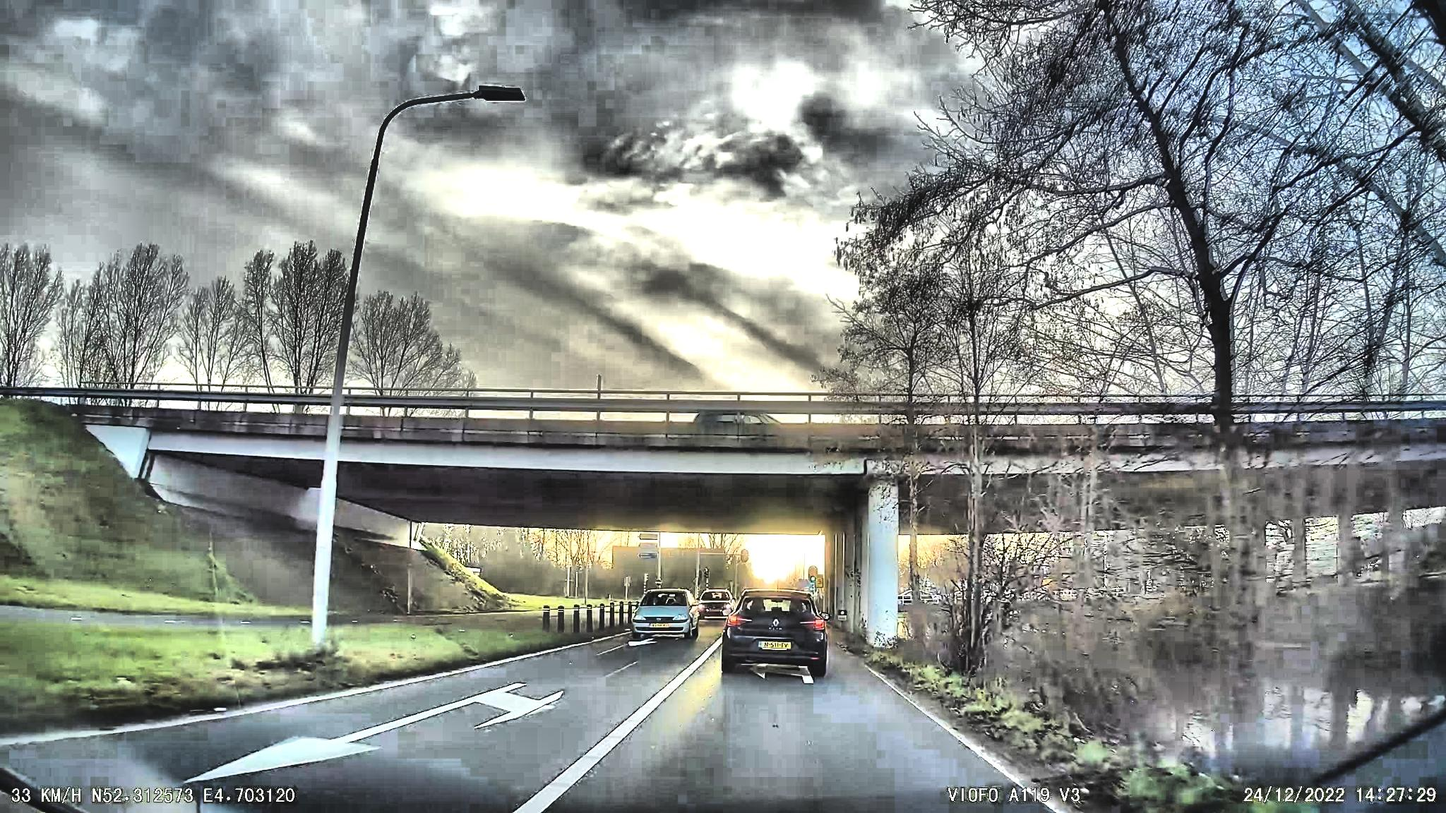Roads: (0, 639, 1086, 813)
